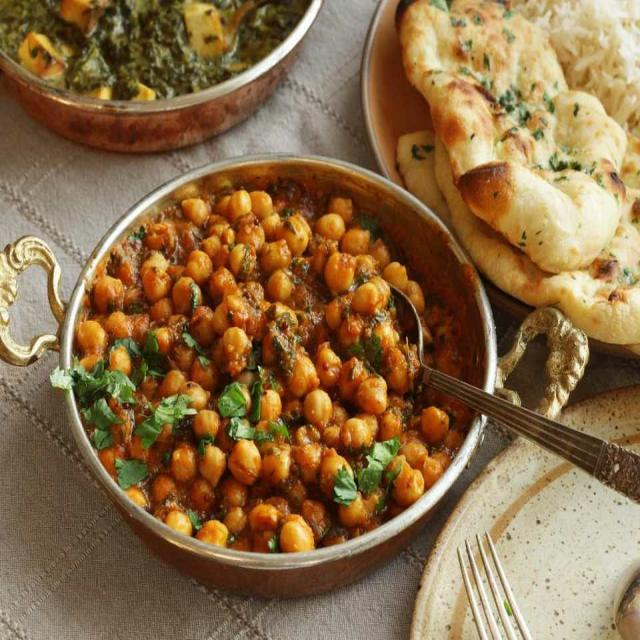Chole: (74, 184, 466, 552)
